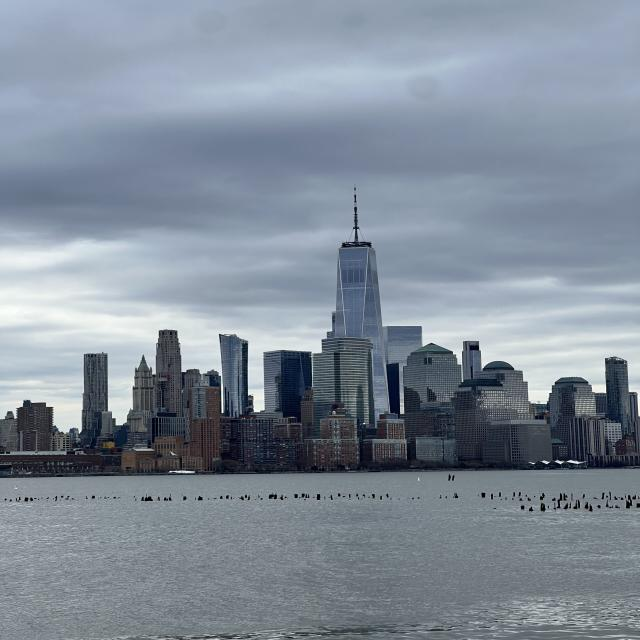WTC: (334, 187, 384, 337)
